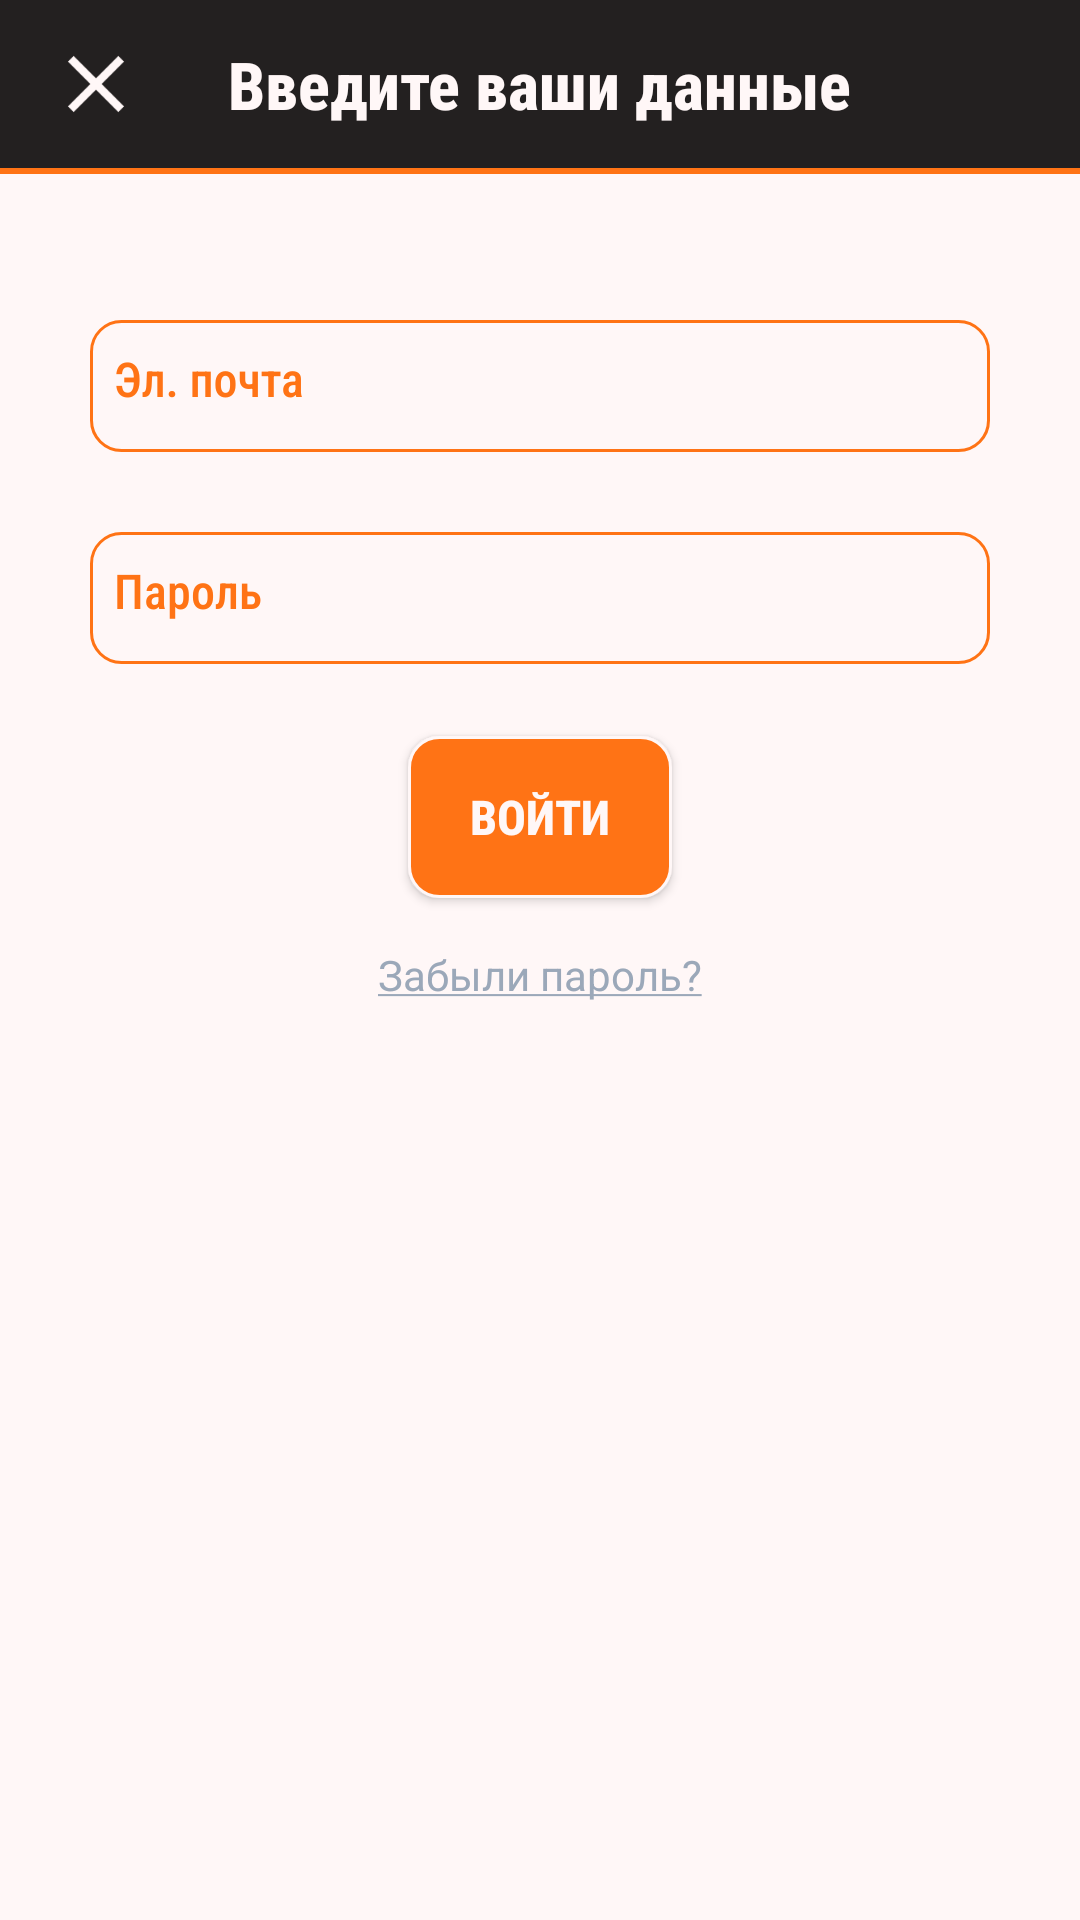

Locate icon controls on the screen. Image size 1080px x 1920px, boxes as (x1, y1, x2, y2).
close: (68, 56, 124, 112)
